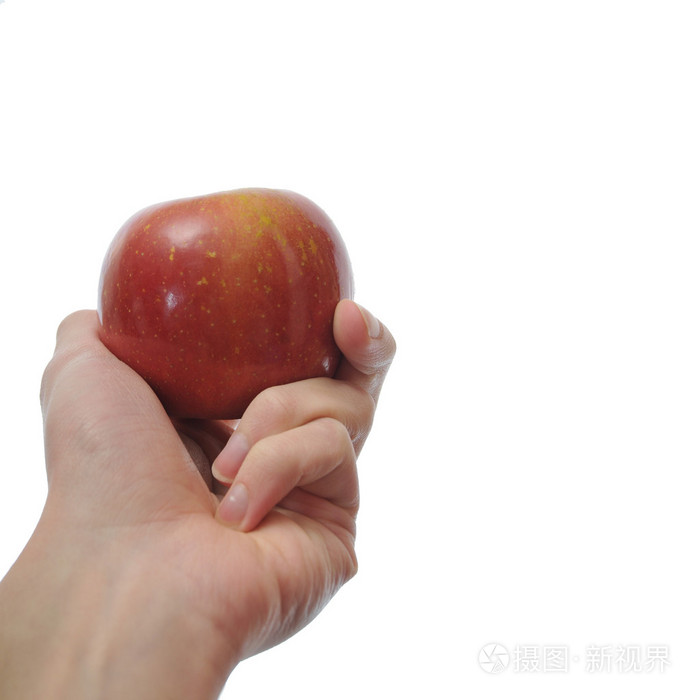no-phone: (32, 185, 398, 660)
